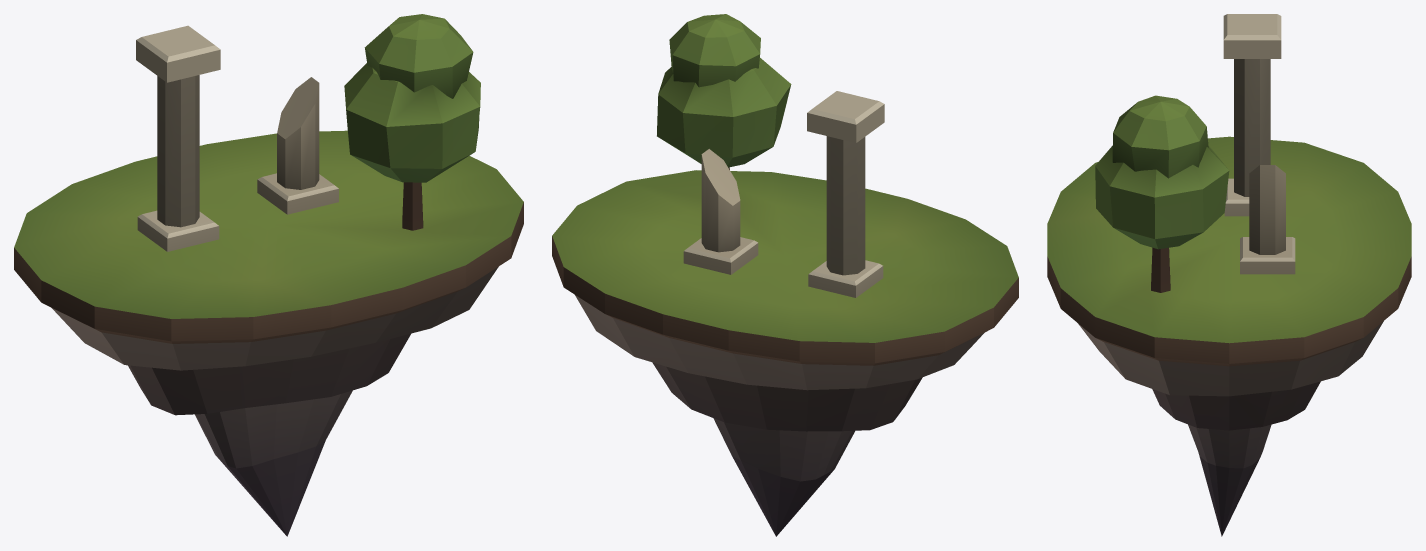
The model's file is ile_lointaine_A.glb.
3 renders of one model, left to right at view 1: azimuth 30°, elevation 25°; view 2: azimuth 150°, elevation 25°; view 3: azimuth 270°, elevation 25°, orthographic. The views are drawn at different scales.
Visible parts, largest first — view 1: ile_lointaine_A; view 2: ile_lointaine_A; view 3: ile_lointaine_A.
Part boxes in pixels (bbox=[...]): ile_lointaine_A: bbox=[14, 14, 523, 536]; ile_lointaine_A: bbox=[552, 14, 1018, 536]; ile_lointaine_A: bbox=[1047, 14, 1411, 536].
Bounding box in the file's own units: 6.4 × 6.94 × 4.77.
